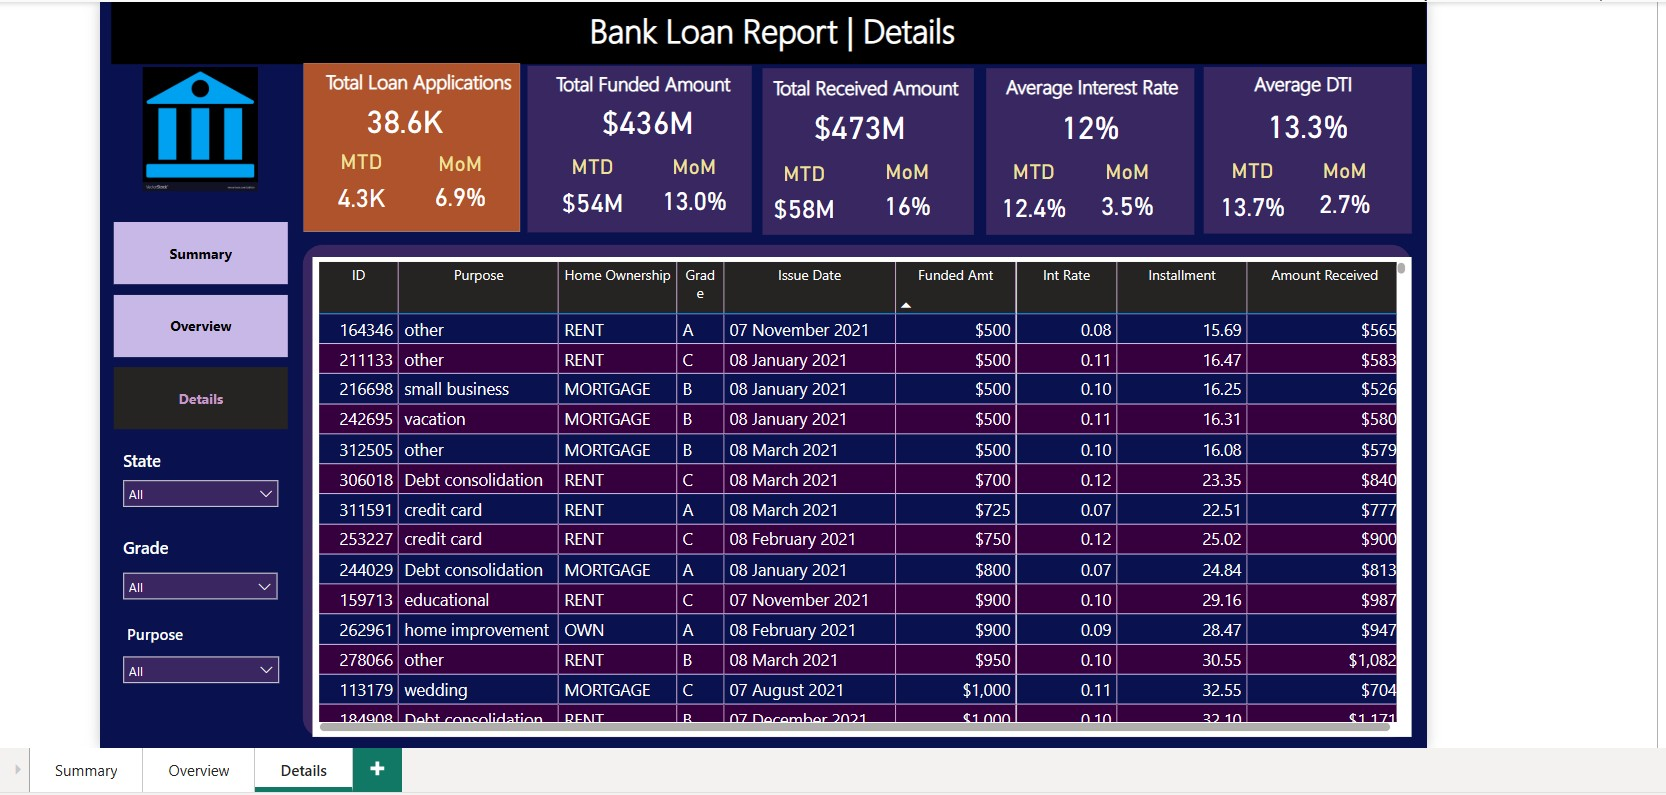

The dashboard page shown, as its layout file describes it:
{"tool":"powerbi","page":{"name":"Details","canvas":[1280,720],"ordinal":2},"visuals":[{"type":"textbox","box":[10.8,0,1269.2,60.3],"z":0},{"type":"shape","box":[1065.1,63.3,201,160.8],"z":0,"group":"g4"},{"type":"shape","box":[855.1,63.5,201,160.8],"z":0,"group":"g3"},{"type":"shape","box":[196,234,1070.5,476.1],"z":0,"group":"g5"},{"type":"textbox","box":[397.3,0,504,68],"z":1000},{"type":"card","fields":{"Values":["Bank_loan_data.Average_Debit_To_Income"]},"box":[1089.8,88.1,150,61.8],"z":1000,"group":"g4"},{"type":"card","fields":{"Values":["Bank_loan_data.Average_Interest_Rate"]},"box":[879.9,88.2,150,61.8],"z":1000,"group":"g3"},{"type":"shape","box":[640,63.4,204.1,160.8],"z":2000},{"type":"card","title":"MTD","fields":{"Values":["Bank_loan_data.MonthToDate_Average_DTI"]},"box":[1062,151.5,98.9,69.6],"z":2000,"group":"g4"},{"type":"card","title":"MTD","fields":{"Values":["Bank_loan_data.MonthToDate_Average_Interest_Rate"]},"box":[852.1,151.6,98.9,69.6],"z":2000,"group":"g3"},{"type":"shape","box":[197.5,60.2,208.6,162.2],"z":3000,"group":"g1"},{"type":"shape","box":[412.5,61.8,216.4,160.8],"z":3000,"group":"g2"},{"type":"card","fields":{"Values":["Bank_loan_data.Total_Amount_Received"]},"box":[657,89.7,151.5,61.8],"z":3000},{"type":"card","title":"MoM","fields":{"Values":["Bank_loan_data.MonthOnMonth_Avg_DTI"]},"box":[1136.2,151.5,129.9,64.9],"z":3000,"group":"g4"},{"type":"card","title":"MoM","fields":{"Values":["Bank_loan_data.MonthOnMonth_Avg_Interest_Rate"]},"box":[926.3,151.6,129.9,64.9],"z":3000,"group":"g3"},{"type":"textbox","box":[1041.9,61.8,238.1,38.6],"z":4000,"group":"g4"},{"type":"textbox","box":[838.2,63.8,238.1,38.6],"z":4000,"group":"g3"},{"type":"textbox","box":[619.9,64.9,238.1,38.6],"z":4000},{"type":"card","fields":{"Values":["Bank_loan_data.Total_Loan_Applications"]},"box":[220.5,84.4,149.5,60.5],"z":4000,"group":"g1"},{"type":"card","fields":{"Values":["Bank_loan_data.Total_funded_Amount"]},"box":[452.8,84.9,150,60.3],"z":4000,"group":"g2"},{"type":"textbox","box":[197,59.7,222.2,37.5],"z":5000,"group":"g1"},{"type":"textbox","box":[405,61.8,238.1,37.1],"z":5000,"group":"g2"},{"type":"card","title":"MTD","fields":{"Values":["Bank_loan_data.MonthToDate_Total_amount_Received"]},"box":[630.7,153,97.4,69.6],"z":5000},{"type":"card","title":"MTD","fields":{"Values":["Bank_loan_data.MonthToDate_Loan_Applications"]},"box":[203.6,143,99.3,69.5],"z":6000,"group":"g1"},{"type":"card","title":"MTD","fields":{"Values":["Bank_loan_data.MTD Funded Amount"]},"box":[425.8,147.4,98.9,69.6],"z":6000,"group":"g2"},{"type":"card","title":"MoM","fields":{"Values":["Bank_loan_data.MonthOnMonth_Amount_Received"]},"box":[714.2,151.5,129.9,64.9],"z":6000},{"type":"group","id":"g1","title":"Group 1","box":[197,59.7,222.2,162.7],"z":7000},{"type":"card","title":"MoM","fields":{"Values":["Bank_loan_data.MonthOnMonth_Loan_Application"]},"box":[282.5,144.1,130.8,64.6],"z":7000,"group":"g1"},{"type":"card","title":"MoM","fields":{"Values":["Bank_loan_data.MonthOnMonth_Funded_Amount"]},"box":[507.7,147.4,131.4,64.9],"z":7000,"group":"g2"},{"type":"group","id":"g2","title":"Group 1","box":[405,61.8,238.1,160.8],"z":8000},{"type":"group","id":"g3","title":"Group 2","box":[838.2,63.5,238.1,160.1],"z":9000},{"type":"group","id":"g4","title":"Group 2","box":[1041.9,61.8,238.1,162.3],"z":10000},{"type":"group","id":"g5","title":"Group 3","box":[196,234,1070.5,476.1],"z":11000},{"type":"slicer","fields":{"Values":["Bank_loan_data.address_state"]},"box":[11.5,451.6,170.2,54.8],"z":12000},{"type":"shape","box":[0,427.1,80.8,28.9],"z":13000},{"type":"slicer","fields":{"Values":["Bank_loan_data.grade"]},"box":[11.5,541,168.8,54.8],"z":14000},{"type":"slicer","fields":{"Values":["Bank_loan_data.purpose"]},"box":[11.6,620.8,170.5,56.3],"z":15000},{"type":"shape","box":[7.2,506.4,73.6,39],"z":16000},{"type":"shape","box":[6,596,94.1,26.5],"z":17000},{"type":"tableEx","fields":{"Values":["Bank_loan_data.id","Bank_loan_data.purpose","Bank_loan_data.home_ownership","Bank_loan_data.grade","Bank_loan_data.issue_date","Bank_loan_data.Total_funded_Amt","Sum(Bank_loan_data.int_rate)","Sum(Bank_loan_data.installment)","Bank_loan_data.Total_Amt_Received"]},"box":[204.9,246.7,1060.4,463.1],"z":19000},{"type":"image","box":[5.8,57.7,181.8,129.8],"z":20000},{"type":"pageNavigator","box":[13,212.1,168.8,200.5],"z":20001}]}

Visuals, with their boxes on the page's 1280x720 design canvas (x1, y1, x2, y2). These are canvas units, not pixel positions in the 1666x795 screenshot, which may show the page scaled, cropped or inside an application window:
textbox: (11, 0, 1280, 60)
shape: (1065, 63, 1266, 224)
shape: (855, 64, 1056, 224)
shape: (196, 234, 1266, 710)
textbox: (397, 0, 901, 68)
card - Bank_loan_data.Average_Debit_To_Income: (1090, 88, 1240, 150)
card - Bank_loan_data.Average_Interest_Rate: (880, 88, 1030, 150)
shape: (640, 63, 844, 224)
"MTD" card: (1062, 152, 1161, 221)
"MTD" card: (852, 152, 951, 221)
shape: (198, 60, 406, 222)
shape: (412, 62, 629, 223)
card - Bank_loan_data.Total_Amount_Received: (657, 90, 808, 152)
"MoM" card: (1136, 152, 1266, 216)
"MoM" card: (926, 152, 1056, 216)
textbox: (1042, 62, 1280, 100)
textbox: (838, 64, 1076, 102)
textbox: (620, 65, 858, 104)
card - Bank_loan_data.Total_Loan_Applications: (220, 84, 370, 145)
card - Bank_loan_data.Total_funded_Amount: (453, 85, 603, 145)
textbox: (197, 60, 419, 97)
textbox: (405, 62, 643, 99)
"MTD" card: (631, 153, 728, 223)
"MTD" card: (204, 143, 303, 212)
"MTD" card: (426, 147, 525, 217)
"MoM" card: (714, 152, 844, 216)
"Group 1" group: (197, 60, 419, 222)
"MoM" card: (282, 144, 413, 209)
"MoM" card: (508, 147, 639, 212)
"Group 1" group: (405, 62, 643, 223)
"Group 2" group: (838, 64, 1076, 224)
"Group 2" group: (1042, 62, 1280, 224)
"Group 3" group: (196, 234, 1266, 710)
slicer - Bank_loan_data.address_state: (12, 452, 182, 506)
shape: (0, 427, 81, 456)
slicer - Bank_loan_data.grade: (12, 541, 180, 596)
slicer - Bank_loan_data.purpose: (12, 621, 182, 677)
shape: (7, 506, 81, 545)
shape: (6, 596, 100, 622)
tableEx - Bank_loan_data.id x Bank_loan_data.purpose: (205, 247, 1265, 710)
image: (6, 58, 188, 188)
pageNavigator: (13, 212, 182, 413)
